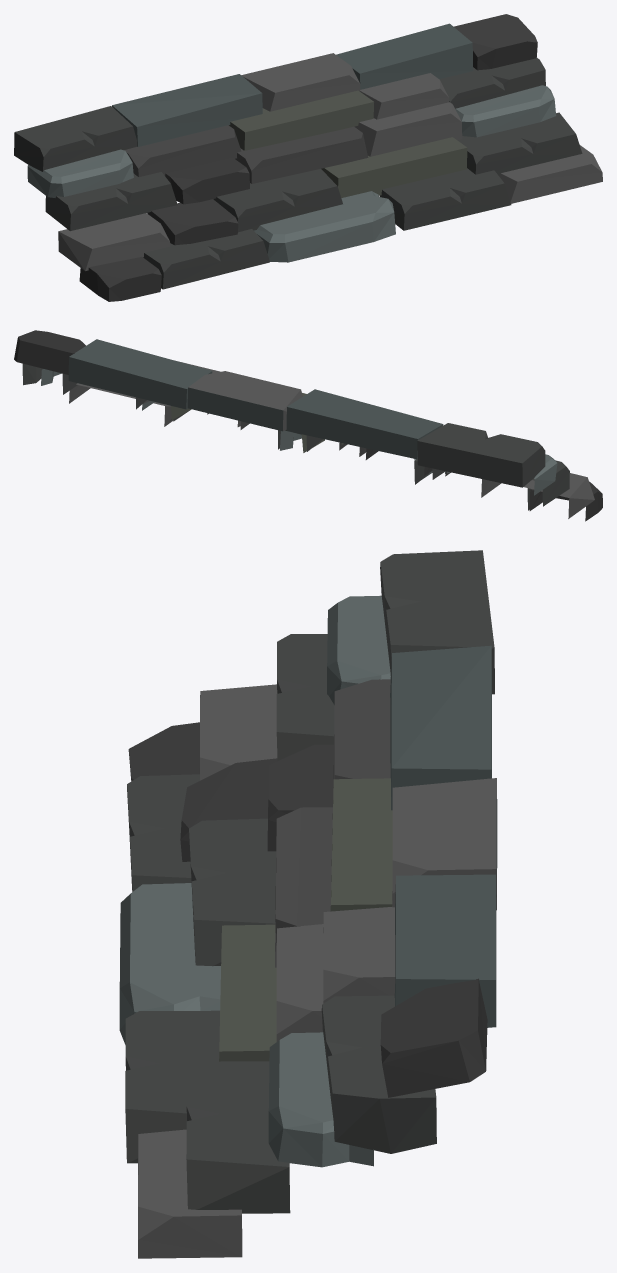
Rendered from ZLP_Stairs_A_5.FBX.
3 views of the same model, one above another, from view 1: azimuth 30°, elevation 25°; view 2: azimuth 150°, elevation 25°; view 3: azimuth 270°, elevation 25° (orthographic). The views are drawn at different scales.
Visible parts, largest first — view 1: ZLP_Stairs_A_5; view 2: ZLP_Stairs_A_5; view 3: ZLP_Stairs_A_5.
Boxes of the visible parts, bbox=[...] form: ZLP_Stairs_A_5: bbox=[14, 14, 602, 301]; ZLP_Stairs_A_5: bbox=[14, 330, 602, 521]; ZLP_Stairs_A_5: bbox=[119, 550, 497, 1258].
Bounding box in the file's own units: 752 × 160 × 244.
